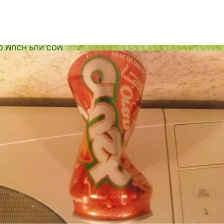can: (63, 48, 155, 224)
